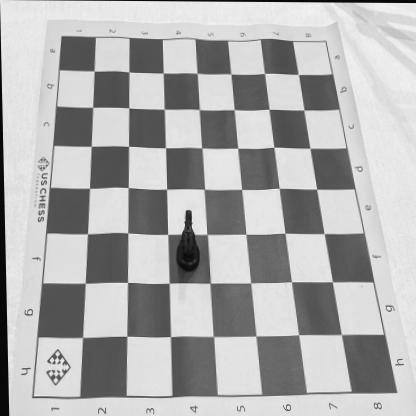black-knight: (174, 208, 200, 272)
